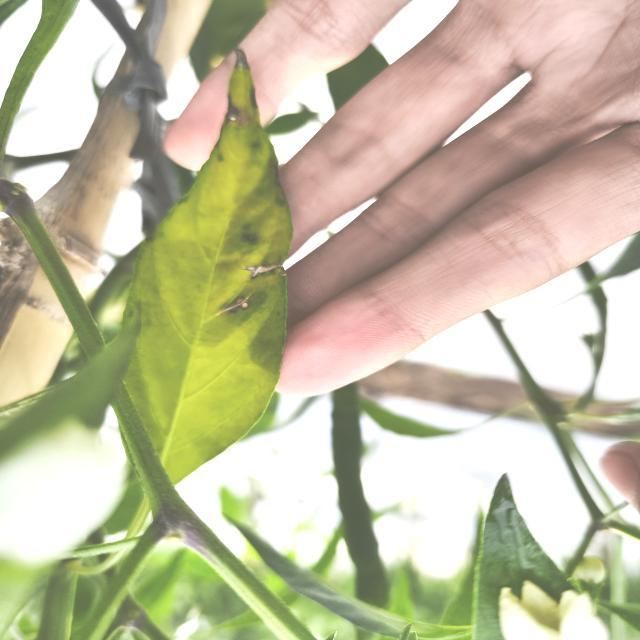Virus Kuning: (112, 51, 295, 497)
